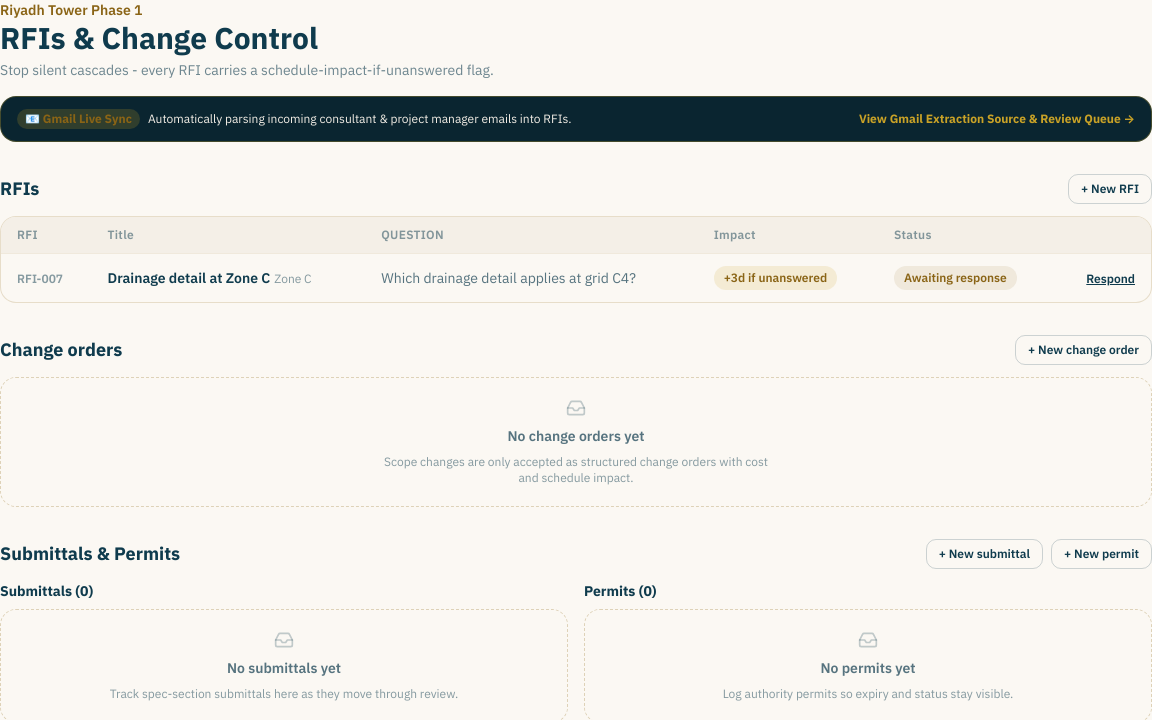
Test case: RfiChangeControlPage › re-enables the RFI submit button after a failed response submit
The width and height of the screenshot is (1152, 720).
Click the button "Respond" at (1111, 279), box left=1086, top=271, right=1135, bottom=287
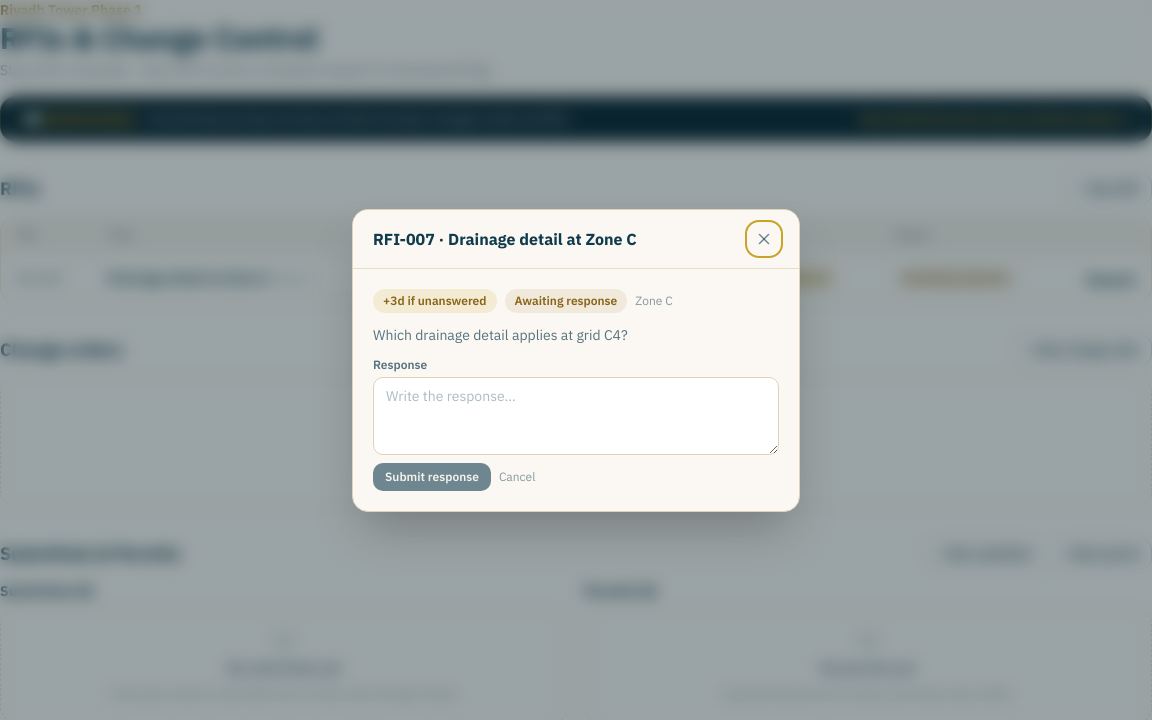
Type "Use detail D-12." into the text box labelled "Response" at (576, 416), box left=373, top=376, right=779, bottom=454
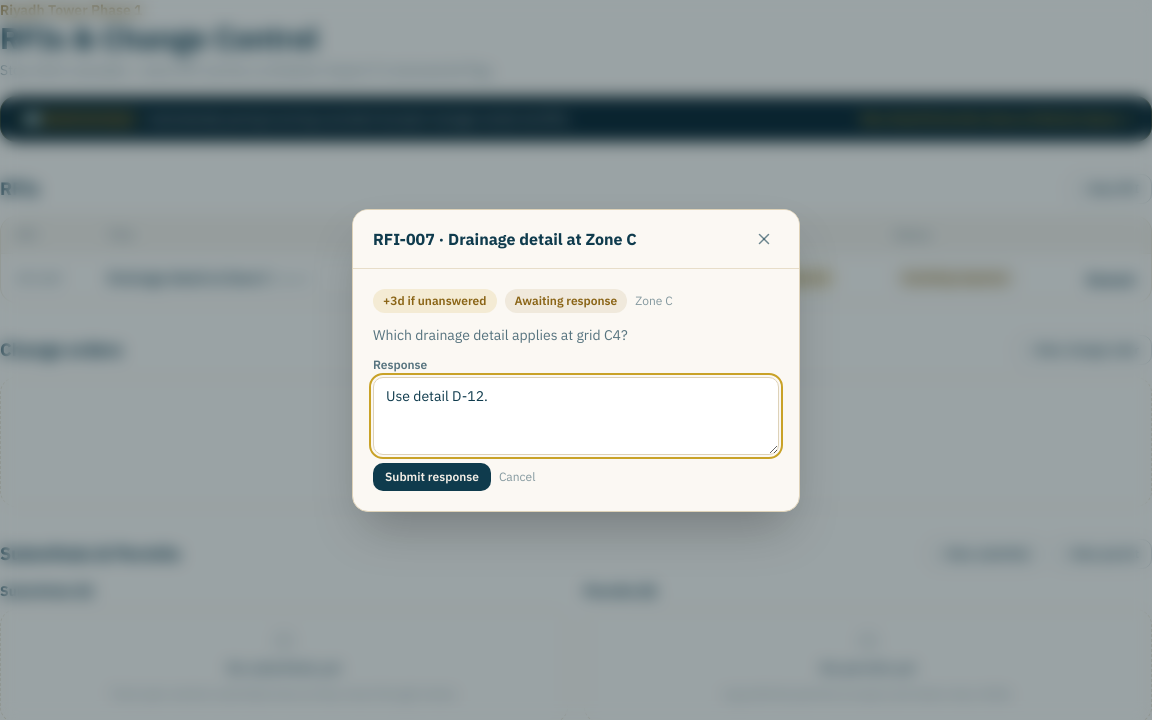
Click the button "Submit response" at (432, 476), box left=373, top=462, right=491, bottom=490
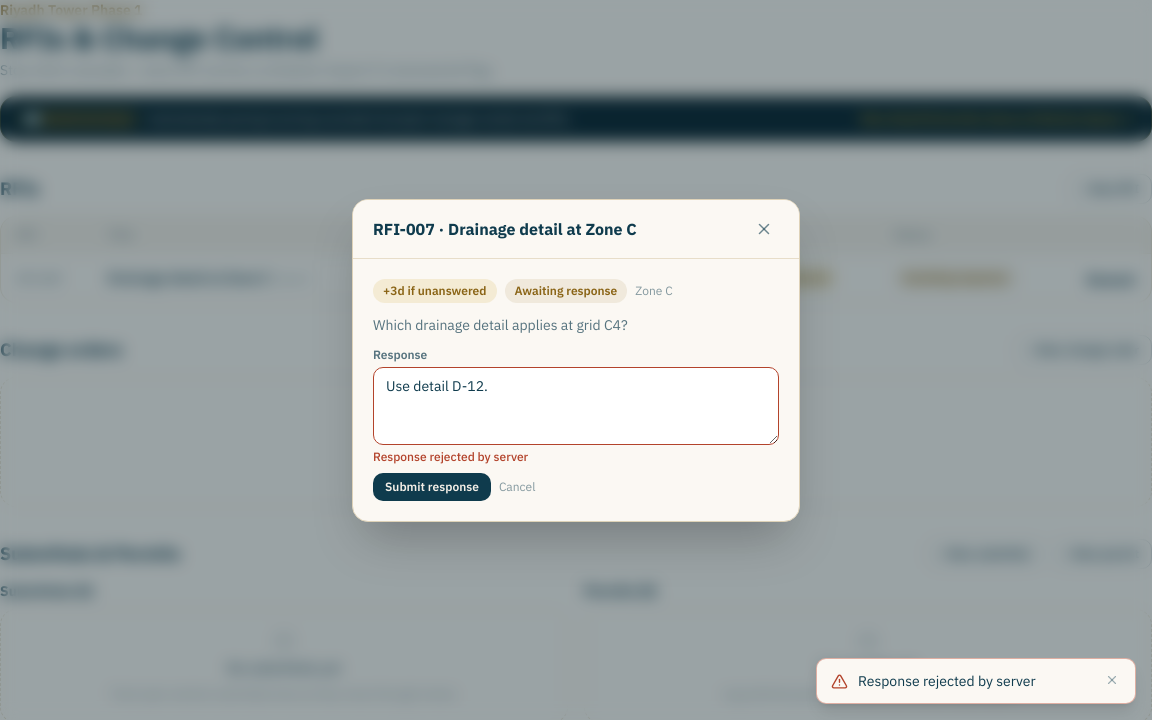
Expected: the button "Submit response" is enabled, left=373, top=472, right=491, bottom=500
Expected: the dialog is shown, left=352, top=198, right=800, bottom=522
Expected: the text "Response rejected by server" below "RFI-007 · Drainage detail at Zone C" is shown, left=373, top=448, right=528, bottom=464
